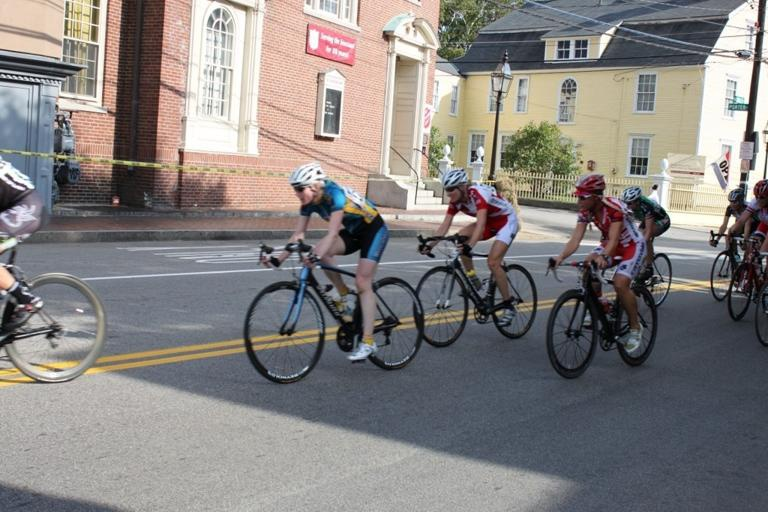non-vehicle: (243, 238, 425, 385), (0, 233, 106, 385), (411, 231, 538, 349), (540, 256, 658, 378), (598, 252, 672, 313)
